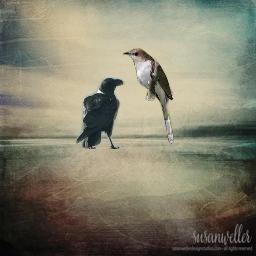Crow: (75, 77, 125, 149)
Cuckoo: (122, 48, 174, 144)
